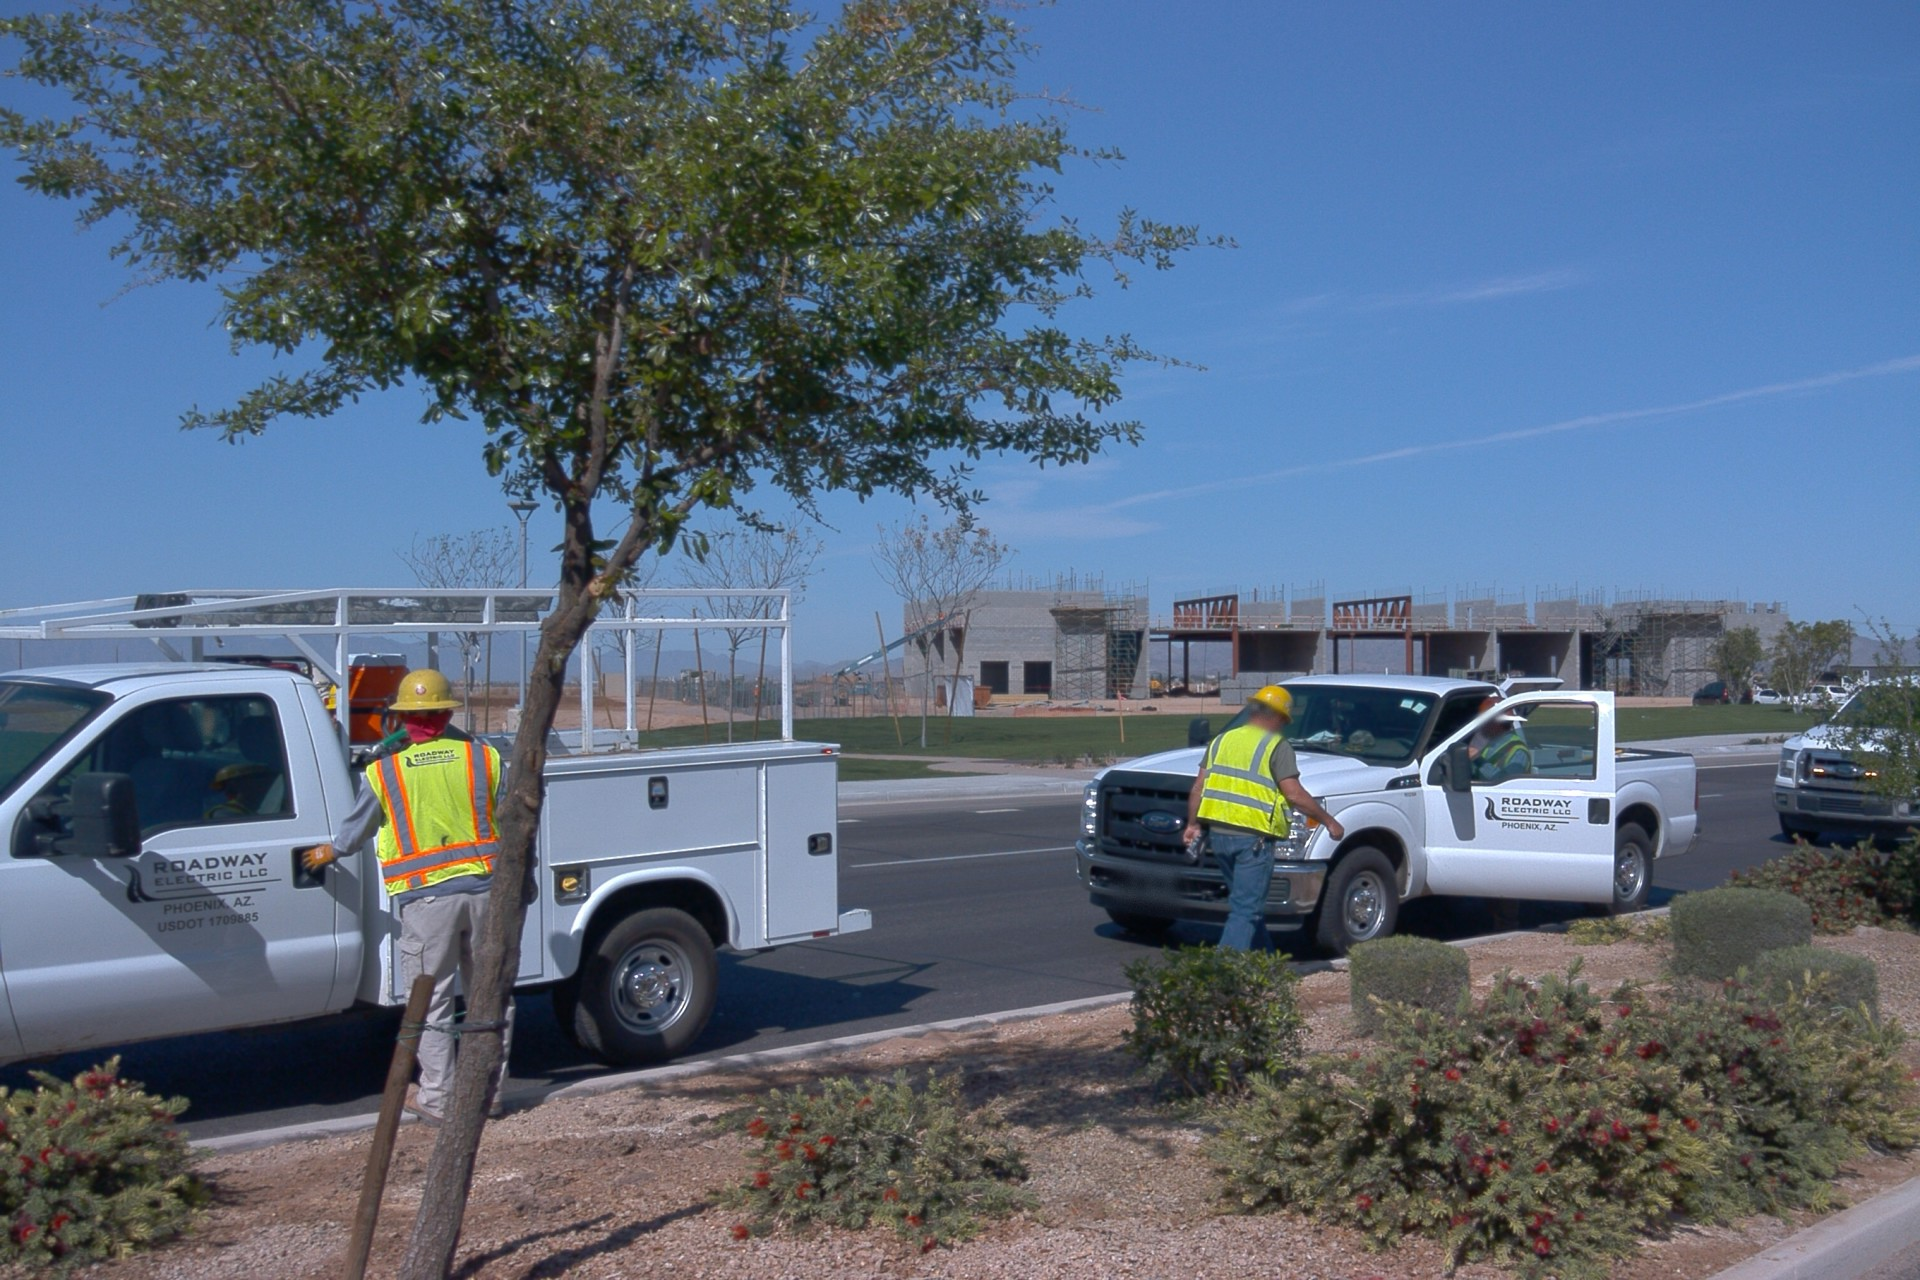TYPE_PEDESTRIAN: (299, 663, 515, 1131), (1177, 683, 1348, 1001), (1461, 696, 1535, 929)
TYPE_VEHICLE: (2, 569, 885, 1090), (1076, 669, 1704, 960), (1773, 672, 1920, 848), (831, 605, 973, 702), (1688, 685, 1750, 709), (1752, 689, 1813, 708), (1806, 674, 1857, 695), (1802, 688, 1852, 709), (1148, 672, 1190, 692)
